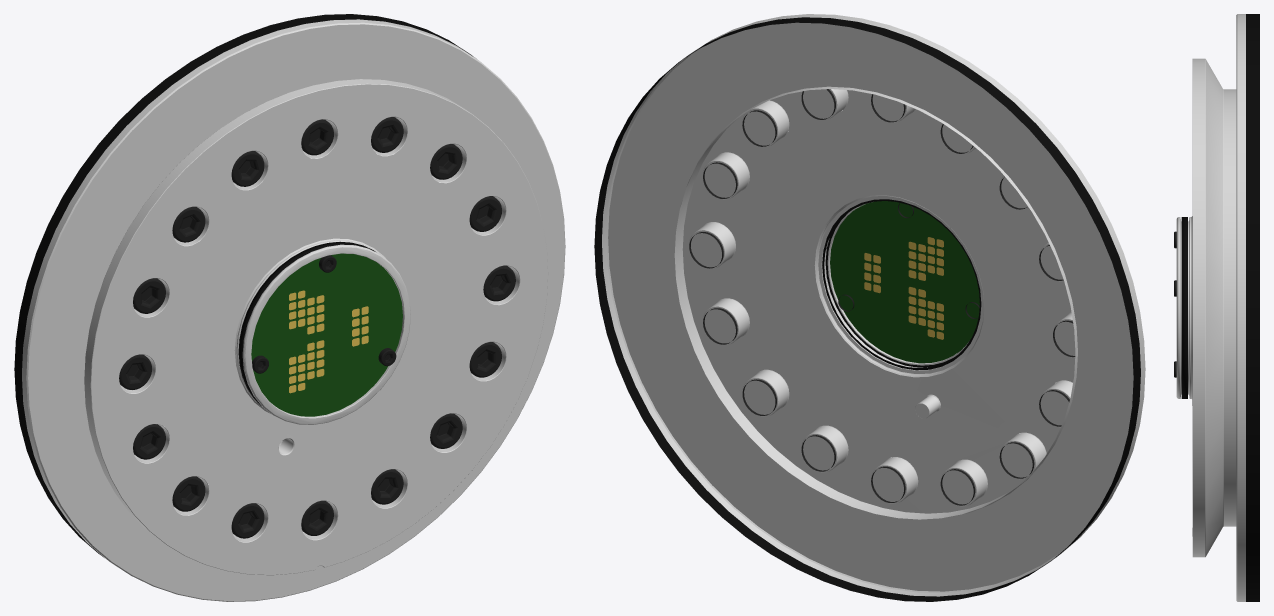
The model's file is D148-romeo-distal.glb.
3 renders of one model, left to right at view 1: azimuth 30°, elevation 25°; view 2: azimuth 150°, elevation 25°; view 3: azimuth 270°, elevation 25°, orthographic. The views are drawn at different scales.
Parts seen in each view (by area): view 1: D148-romeo-distal.001; view 2: D148-romeo-distal.001; view 3: D148-romeo-distal.001.
Part boxes in pixels (box(x1,y1,x2,y2)): D148-romeo-distal.001: box(14, 14, 565, 601); D148-romeo-distal.001: box(594, 14, 1145, 601); D148-romeo-distal.001: box(1174, 14, 1259, 601).
Bounding box in the file's own units: 0.148 × 0.1478 × 0.0216.
